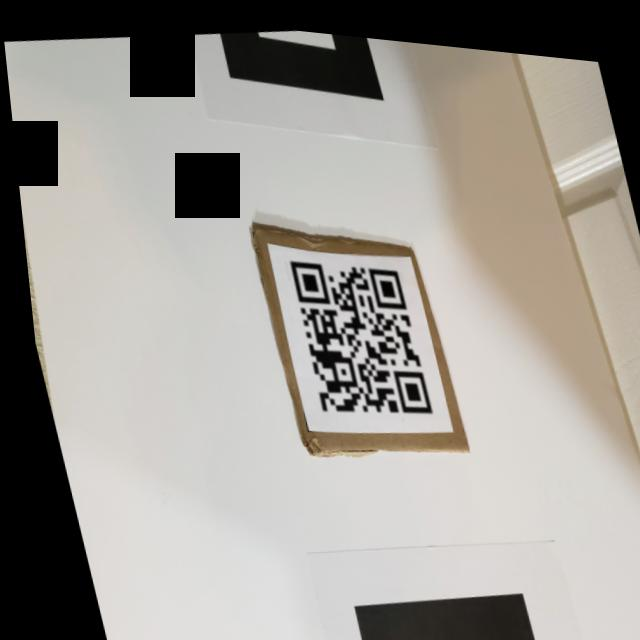QR_CODE: (274, 233, 436, 435)
